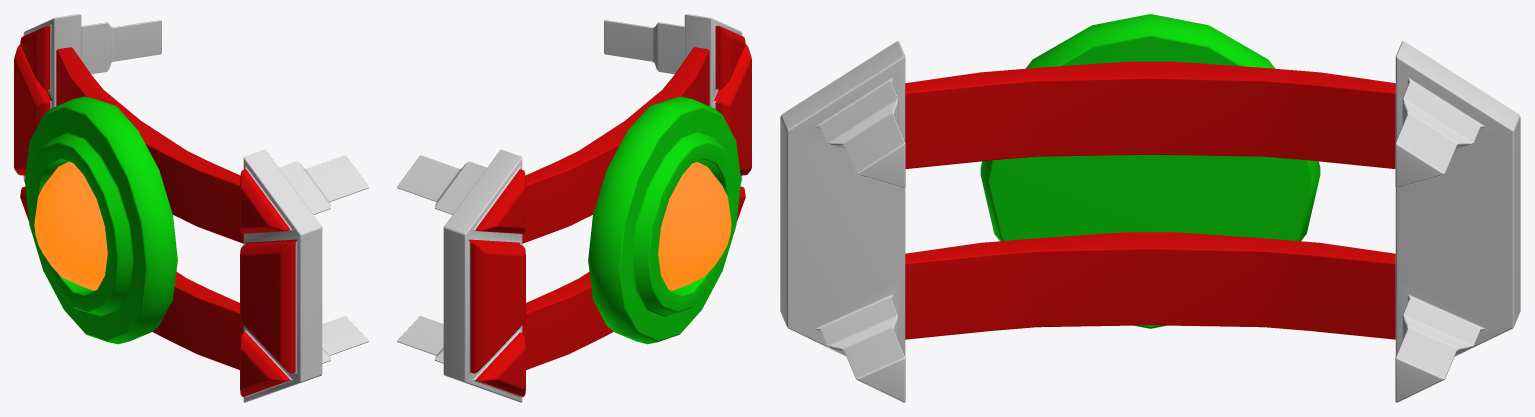
Rendered from SM_ShieldModule.fbx.
3 views of the same model, side by side, from view 1: azimuth 30°, elevation 25°; view 2: azimuth 150°, elevation 25°; view 3: azimuth 270°, elevation 25° (orthographic). The views are drawn at different scales.
Parts seen in each view (by area): view 1: ShieldModel, ShieldBall; view 2: ShieldModel, ShieldBall; view 3: ShieldModel.
Boxes of the visible parts, x1,y1,x2,y2 form: ShieldModel: [14, 14, 368, 402]; ShieldBall: [34, 161, 107, 290]; ShieldModel: [397, 14, 751, 402]; ShieldBall: [658, 161, 731, 290]; ShieldModel: [780, 14, 1520, 402].
Bounding box in the file's own units: 6.59 × 14.64 × 7.18.
